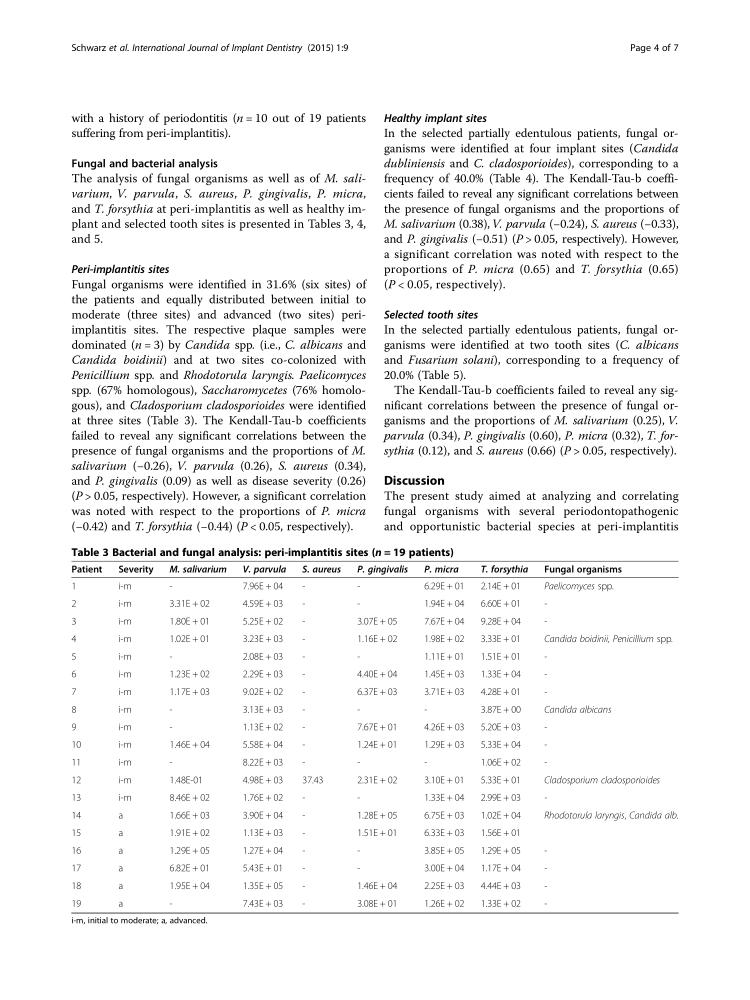table: (71, 563, 678, 909)
